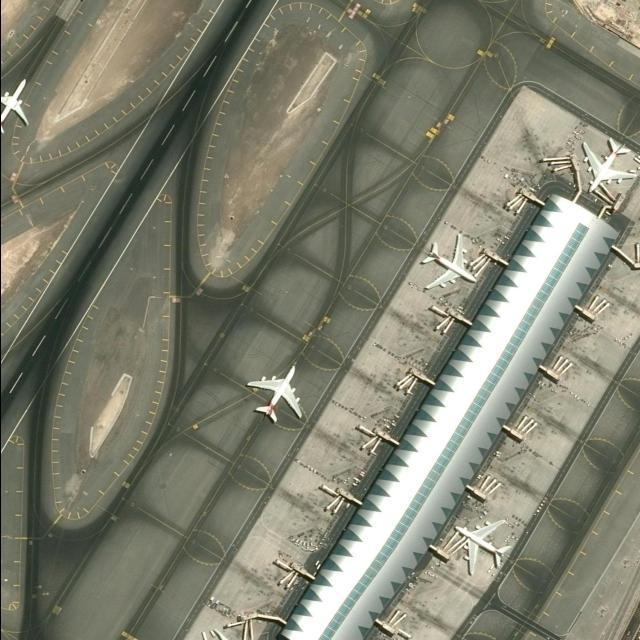Aircraft: (416, 232, 478, 294), (245, 366, 305, 429), (449, 517, 509, 579), (580, 135, 632, 199), (0, 77, 34, 137)
